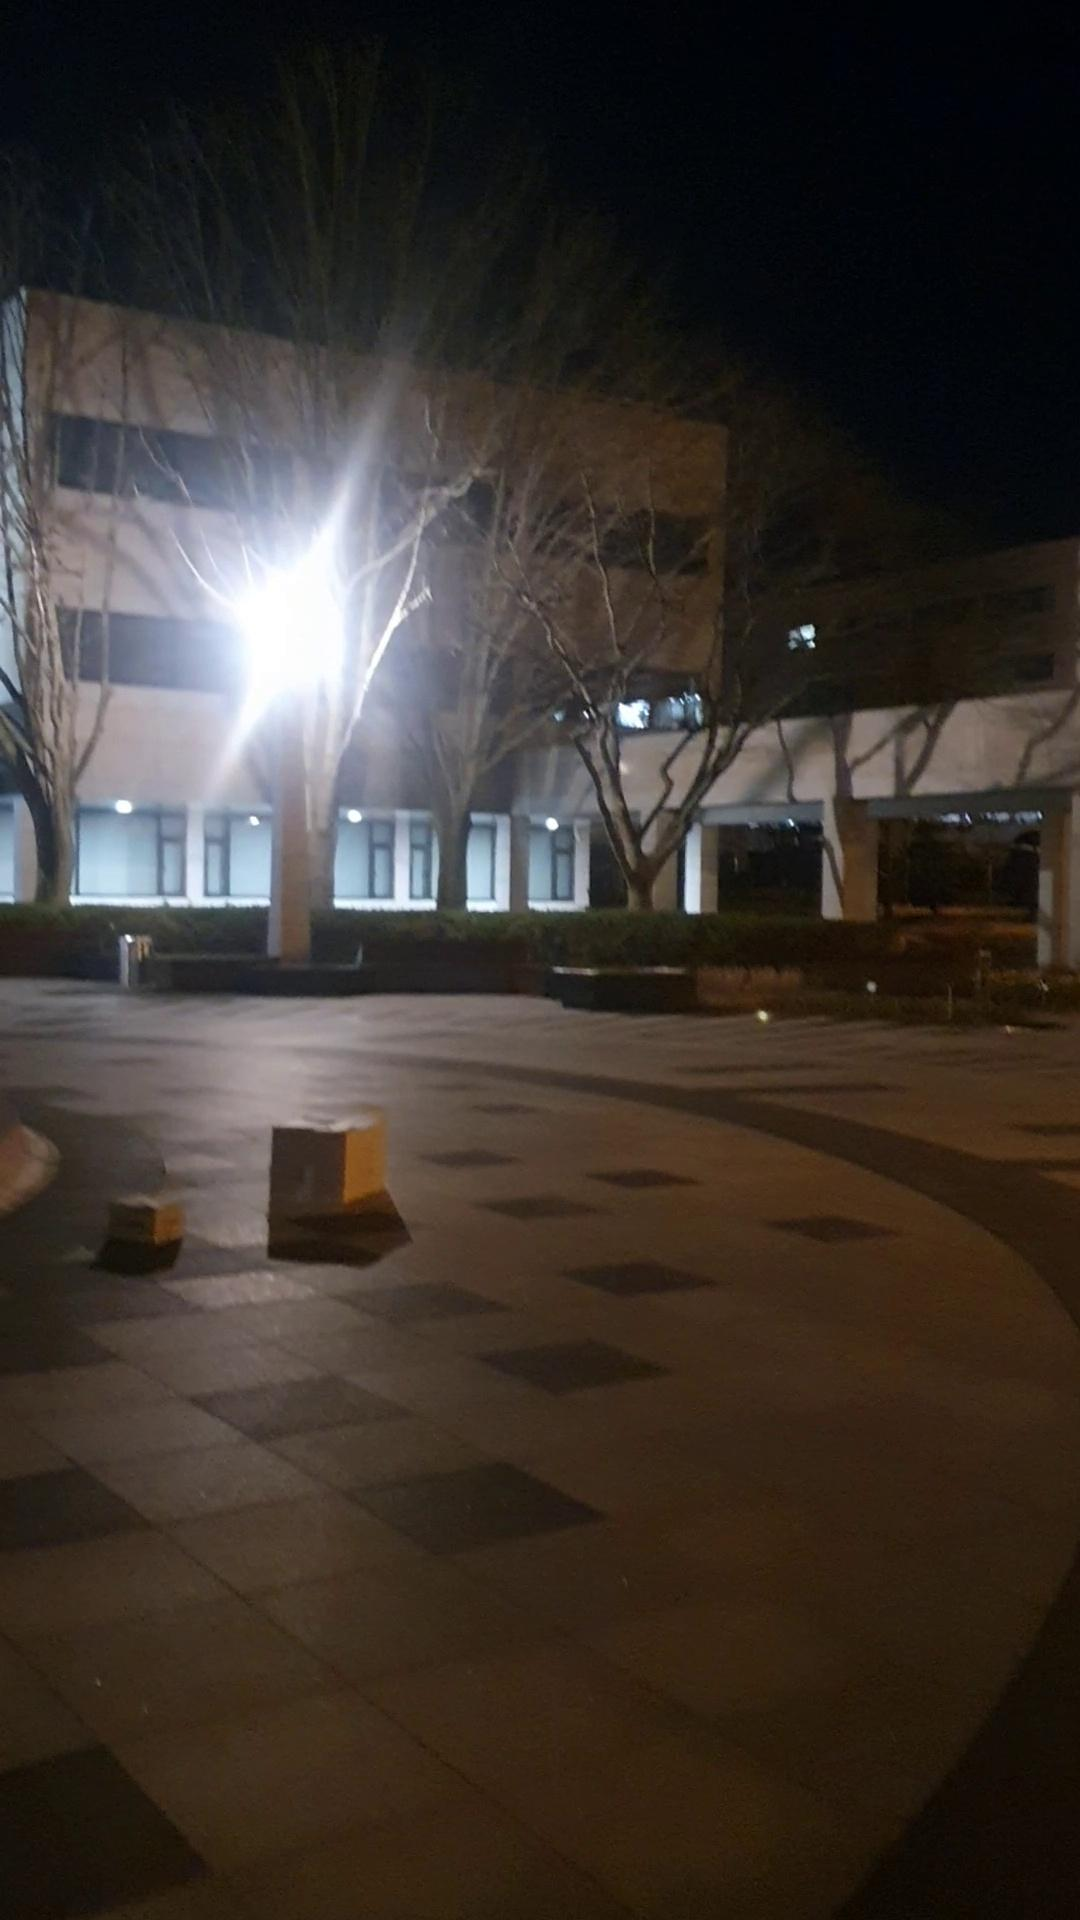Box: (262, 1108, 396, 1238), (98, 1185, 195, 1261)
